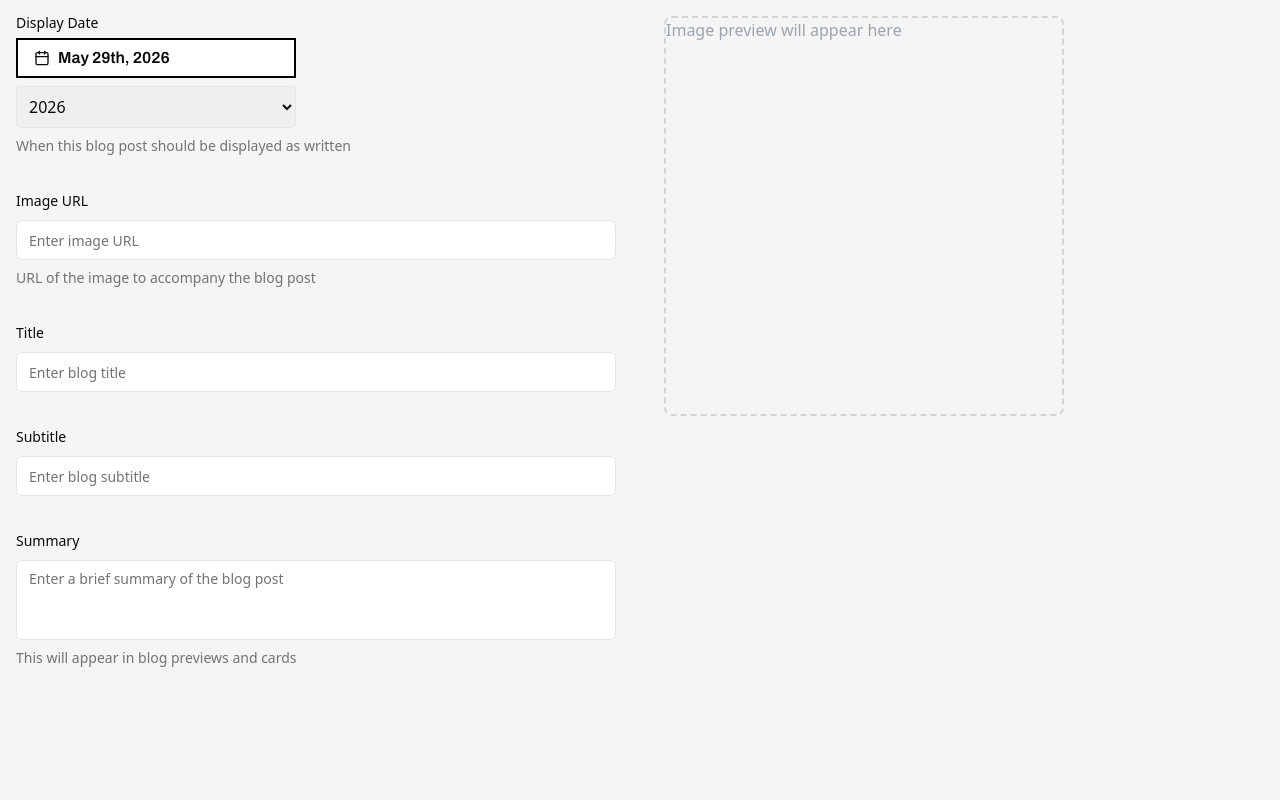
Test: admin article and blog forms › shows pre-submit blog create feedback for malformed image URLs without rendering a preview
This screenshot has width=1280, height=800.
Type "not-a-url" into the field labelled "Image URL" at (316, 240), box [16, 220, 616, 260]
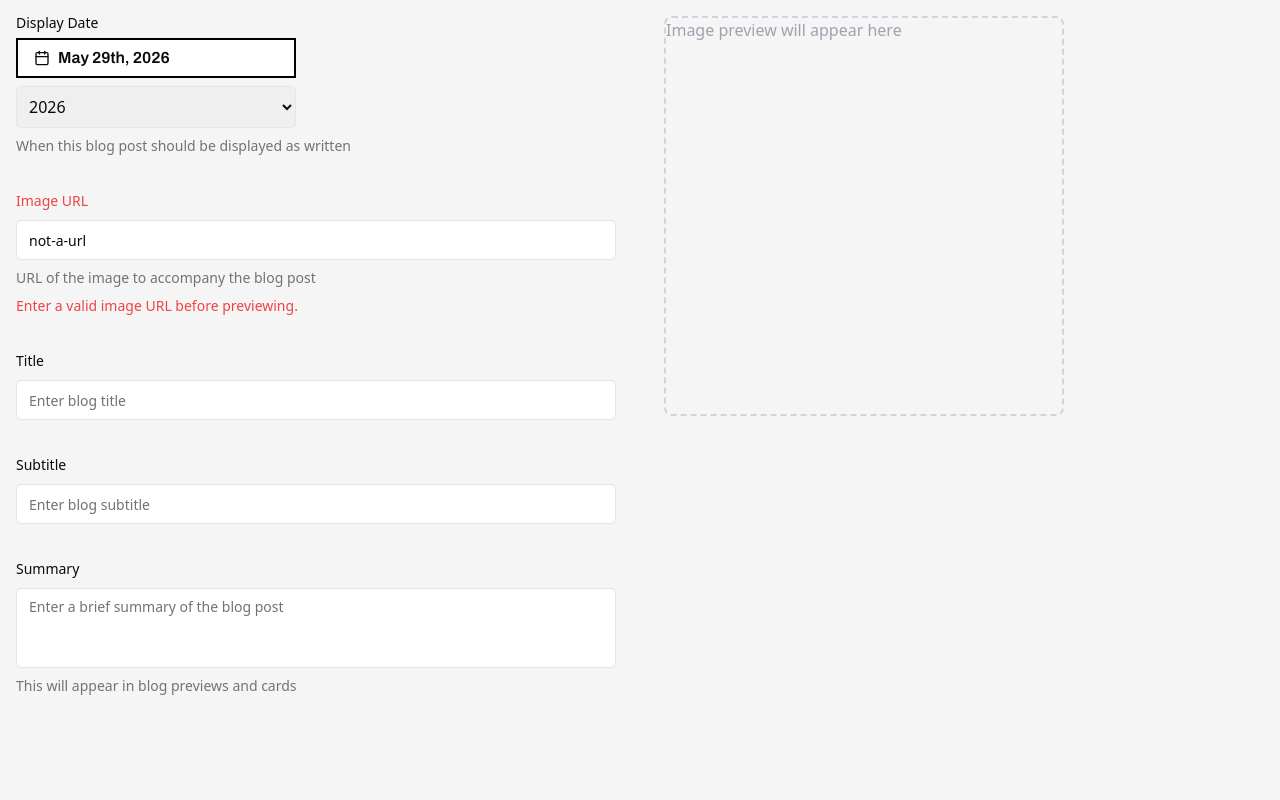
Now the text "Enter a valid image URL before previewing." is shown, box [16, 296, 298, 315]
